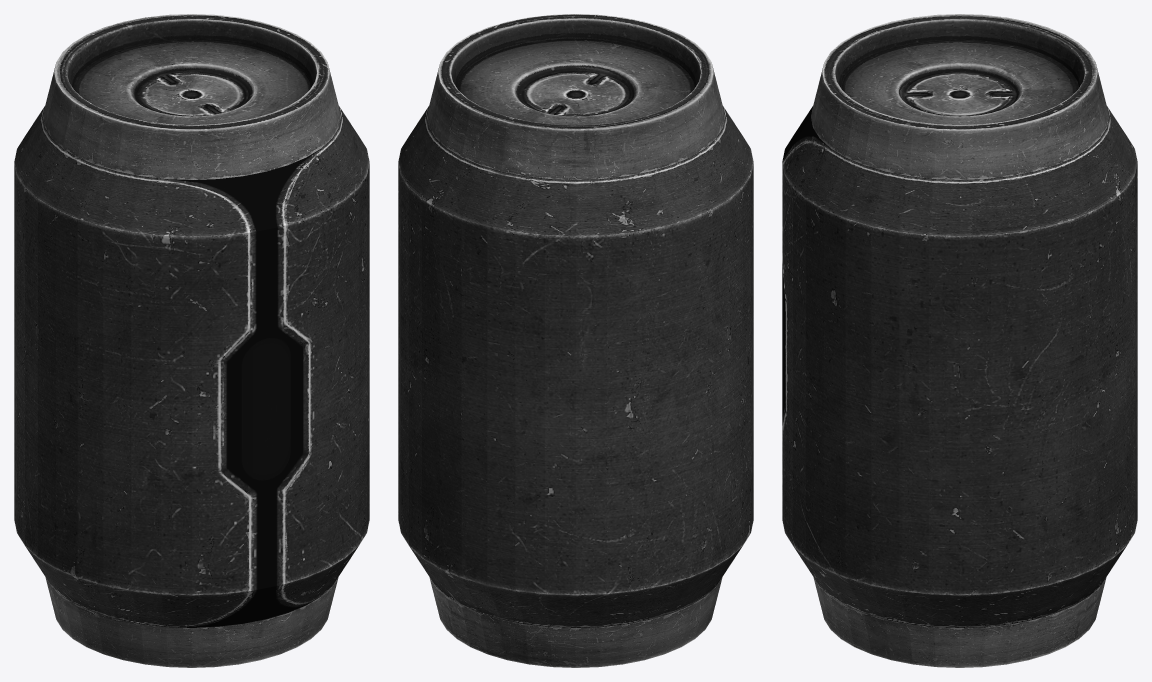
The model's file is gas_bim_disabled.obj.
3 views of the same model, side by side, from view 1: azimuth 30°, elevation 25°; view 2: azimuth 150°, elevation 25°; view 3: azimuth 270°, elevation 25° (orthographic).
Visible parts, largest first — view 1: Gas; view 2: Gas; view 3: Gas.
Boxes of the visible parts, <box> form: Gas: <box>14,14,369,667</box>; Gas: <box>398,14,753,667</box>; Gas: <box>782,14,1137,667</box>.
Bounding box in the file's own units: 62.56 × 104 × 62.57.
